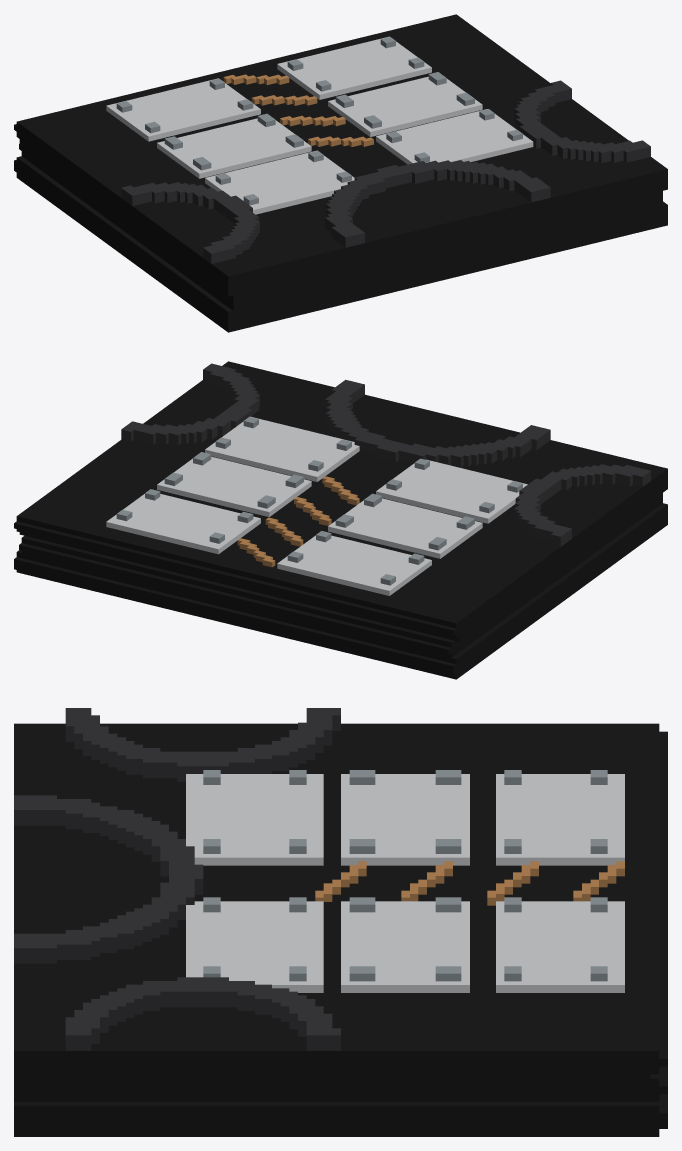
File: vest_leather_mod.glb
The picture shows the model from 3 angles, top to bottom: view 1: azimuth 30°, elevation 25°; view 2: azimuth 150°, elevation 25°; view 3: azimuth 270°, elevation 25°; orthographic projection. The views are drawn at different scales.
Parts seen in each view (by area): view 1: vest_leather_mod:compound; view 2: vest_leather_mod:compound; view 3: vest_leather_mod:compound.
Boxes of the visible parts, x1=… form: vest_leather_mod:compound: x1=14, y1=14, x2=667, y2=332; vest_leather_mod:compound: x1=14, y1=361, x2=667, y2=679; vest_leather_mod:compound: x1=14, y1=708, x2=667, y2=1136.
Size of the model in its own units: 0.36 by 0.052 by 0.304.
